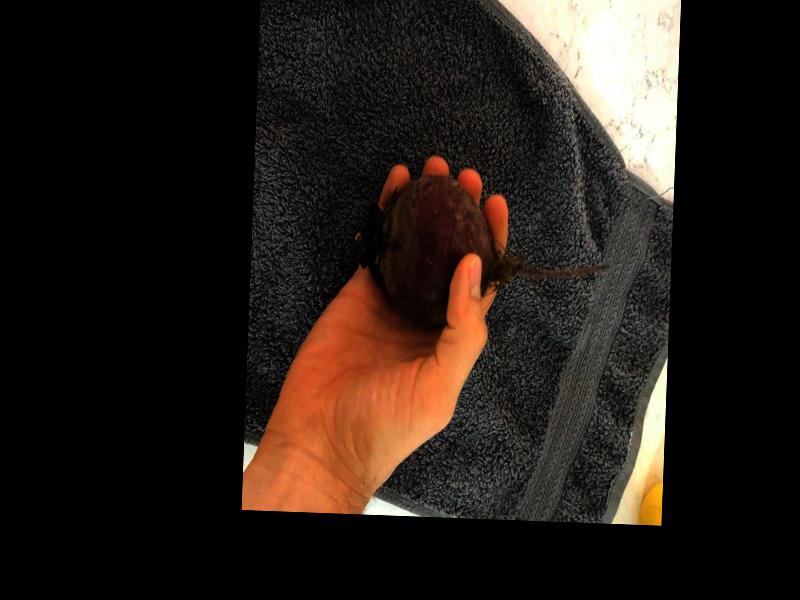Beet: (357, 170, 612, 333)
